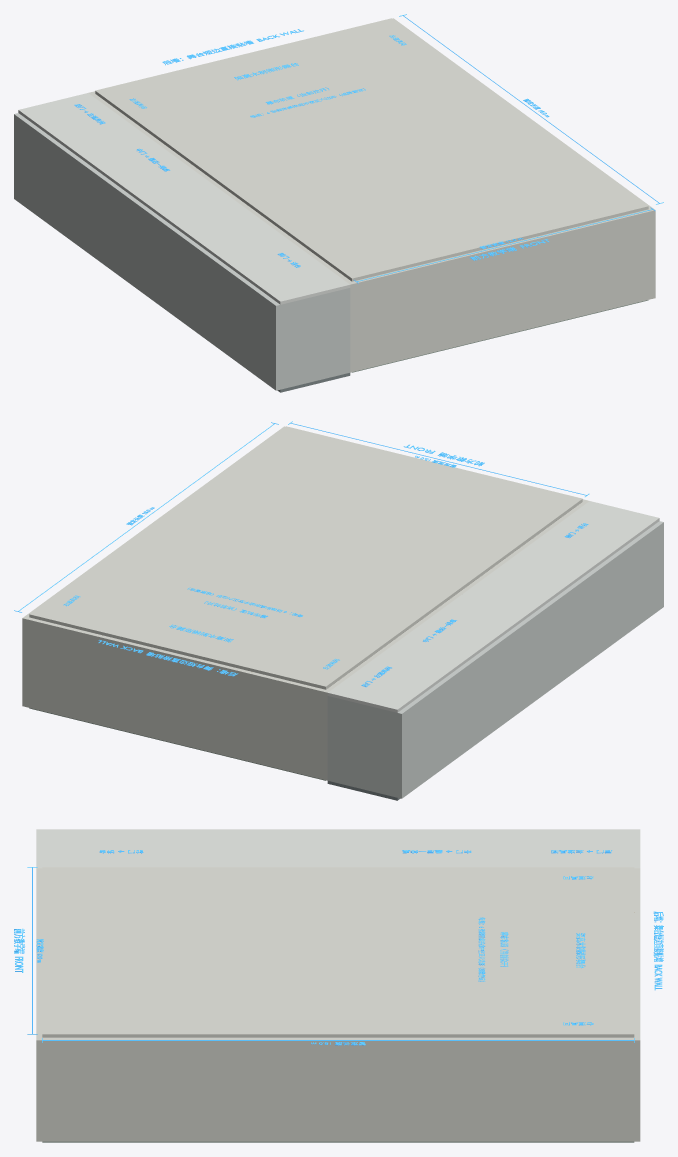
Rendered from HumanityTrinityRebuild.glb.
The picture shows the model from 3 angles, top to bottom: view 1: azimuth 30°, elevation 25°; view 2: azimuth 150°, elevation 25°; view 3: azimuth 270°, elevation 25°; orthographic projection. The views are drawn at different scales.
Visible parts, largest first — view 1: Ceiling_顶板_默认隐藏便于查看, Wall_Front_前方教学墙, Corridor_OuterWall, Corridor_Ceiling, Corridor_FrontEndWall, Wall_Left_Segment_02; view 2: Ceiling_顶板_默认隐藏便于查看, Wall_Back_后墙_舞台短边贴墙, Corridor_OuterWall, Corridor_Ceiling, Corridor_RearEndWall, Wall_Left_Segment_02; view 3: Ceiling_顶板_默认隐藏便于查看, Wall_Right_右侧无窗实体墙, Corridor_Ceiling, Wall_Back_后墙_舞台短边贴墙, Wall_Front_前方教学墙, Floor_地面_暂定12x18m, Label_Back, Dimension_RoomLength.
Part boxes in pixels (x1,y1,x2,y2): Ceiling_顶板_默认隐藏便于查看: (95, 18, 648, 281); Wall_Front_前方教学墙: (348, 208, 655, 372); Corridor_OuterWall: (14, 113, 280, 390); Corridor_Ceiling: (18, 93, 350, 304); Corridor_FrontEndWall: (280, 288, 350, 389); Wall_Left_Segment_02: (185, 162, 308, 251); Ceiling_顶板_默认隐藏便于查看: (29, 426, 582, 689); Wall_Back_后墙_舞台短边贴墙: (22, 616, 329, 780); Corridor_OuterWall: (397, 521, 663, 798); Corridor_Ceiling: (327, 501, 659, 712); Corridor_RearEndWall: (327, 696, 397, 797); Wall_Left_Segment_02: (420, 533, 543, 621); Ceiling_顶板_默认隐藏便于查看: (42, 867, 634, 1037); Wall_Right_右侧无窗实体墙: (42, 1037, 634, 1141); Corridor_Ceiling: (36, 829, 640, 868); Wall_Back_后墙_舞台短边贴墙: (634, 868, 640, 1141); Wall_Front_前方教学墙: (36, 868, 42, 1141); Floor_地面_暂定12x18m: (42, 1141, 634, 1142); Label_Back: (653, 911, 663, 990); Dimension_RoomLength: (42, 1040, 633, 1040).
Size of the model in its own units: 15.98 by 3.65 by 19.76.
39 materials, 3 textured.
